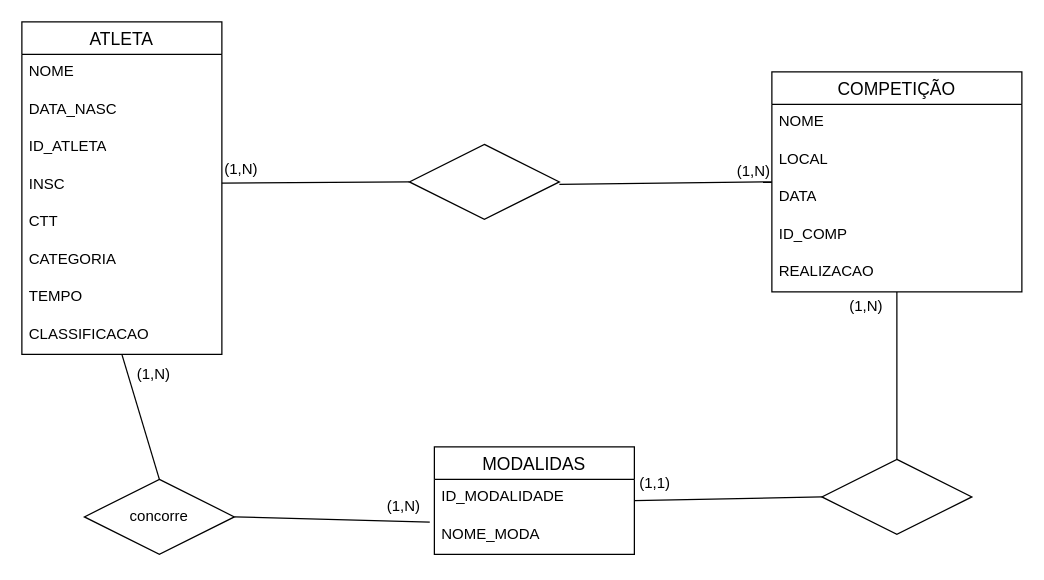
Some shapes in this 1044 by 580 pixel diagram are drawn without their labels. The centre of each missing label's shape, as x and y in pixels:
participa: [483,181]
possui: [896,496]
